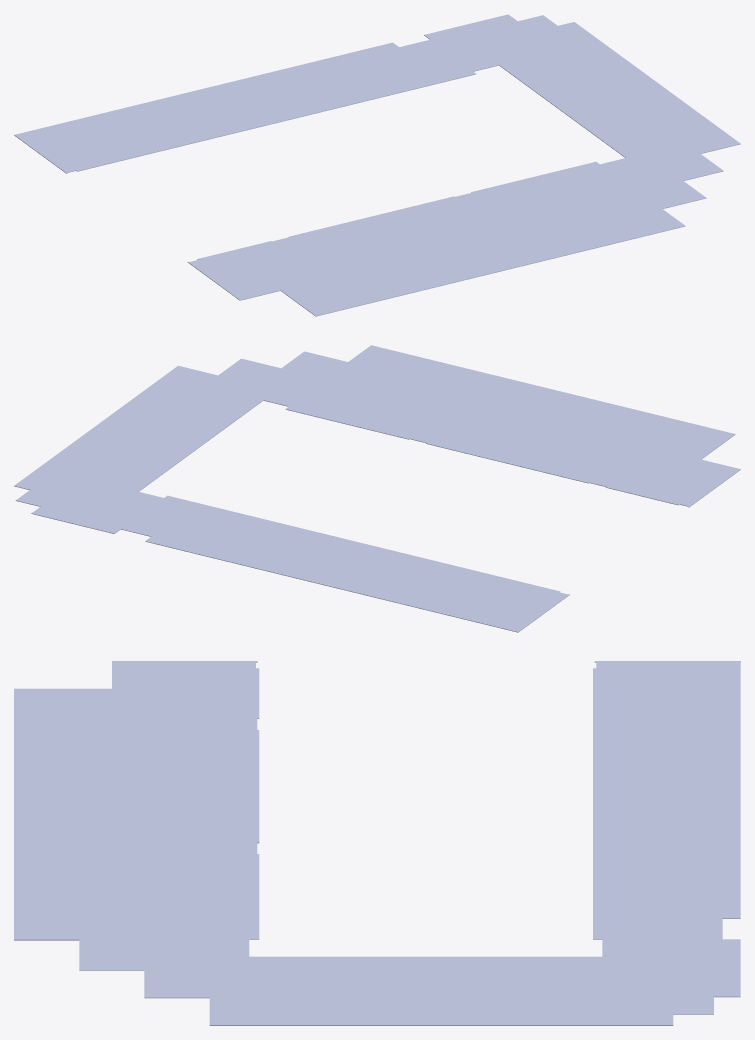
File: 5tray.FBX
3 views of the same model, one above another, from view 1: azimuth 30°, elevation 25°; view 2: azimuth 150°, elevation 25°; view 3: azimuth 270°, elevation 25° (orthographic). The views are drawn at different scales.
Visible parts, largest first — view 1: 凸台-拉伸2; view 2: 凸台-拉伸2; view 3: 凸台-拉伸2.
Part boxes in pixels (<box>): 凸台-拉伸2: <box>14,14,740,316</box>; 凸台-拉伸2: <box>14,345,740,632</box>; 凸台-拉伸2: <box>14,661,740,1025</box>.
Bounding box in the file's own units: 4157 × 3.94 × 3510.
